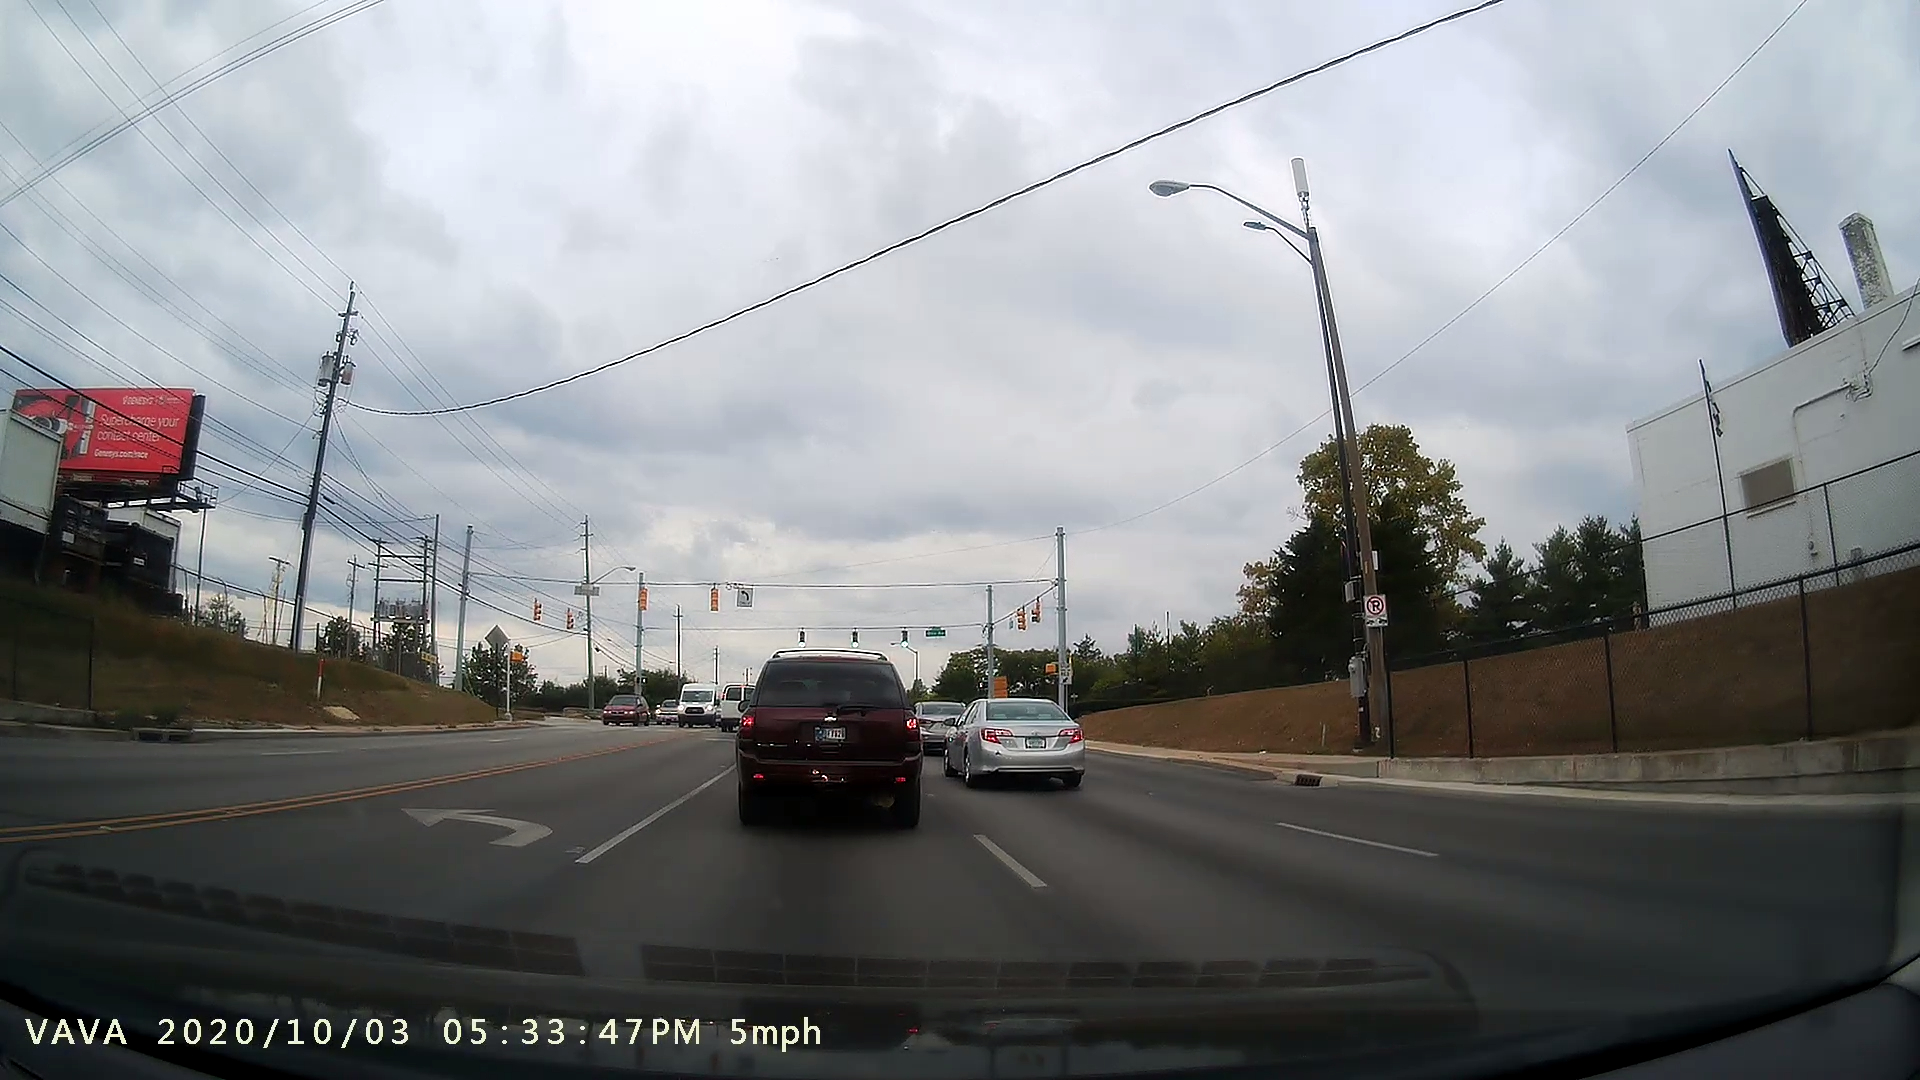left_turn: (392, 790, 560, 860)
